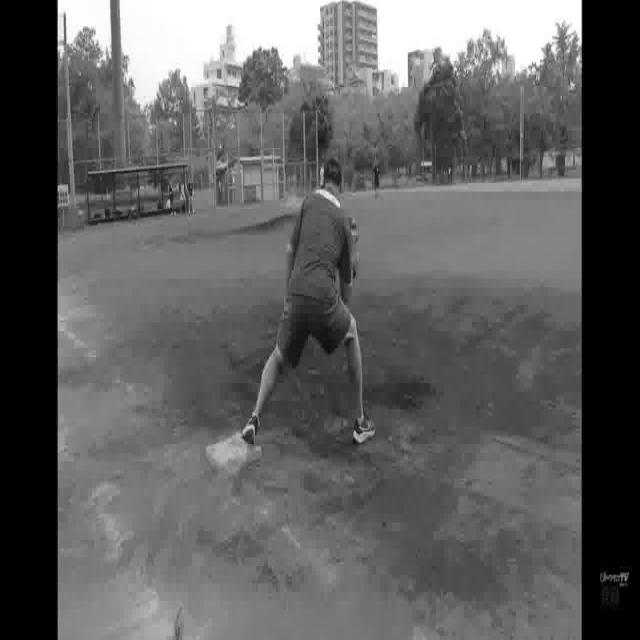base: (204, 432, 268, 474)
baseball_glove: (344, 214, 364, 284)
shoe: (351, 414, 378, 448), (240, 412, 263, 448)
